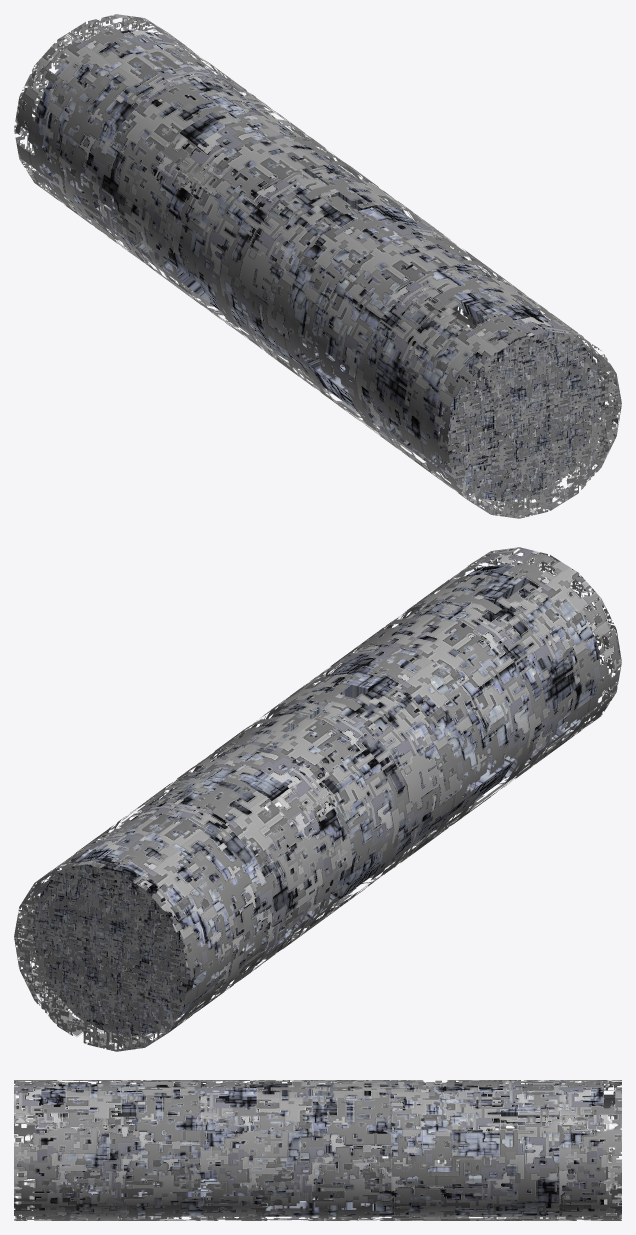
Rendered from iqbs.lqmodgw31.fbx.
3 renders of one model, top to bottom at view 1: azimuth 30°, elevation 25°; view 2: azimuth 150°, elevation 25°; view 3: azimuth 270°, elevation 25°, orthographic. The views are drawn at different scales.
Visible parts, largest first — view 1: Cylinder002, Cylinder001; view 2: Cylinder002, Cylinder001; view 3: Cylinder002, Cylinder001.
Part boxes in pixels (x1,y1,x2,y2): Cylinder002: [14, 14, 621, 518]; Cylinder001: [34, 29, 601, 501]; Cylinder002: [14, 547, 621, 1051]; Cylinder001: [32, 564, 600, 1035]; Cylinder002: [14, 1080, 621, 1220]; Cylinder001: [34, 1084, 603, 1216].
Size of the model in its own units: 19.78 by 19.48 by 84.99.
